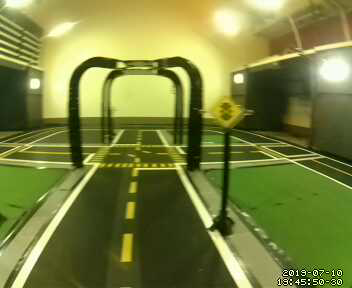Traffic light sign: (210, 96, 244, 128)
